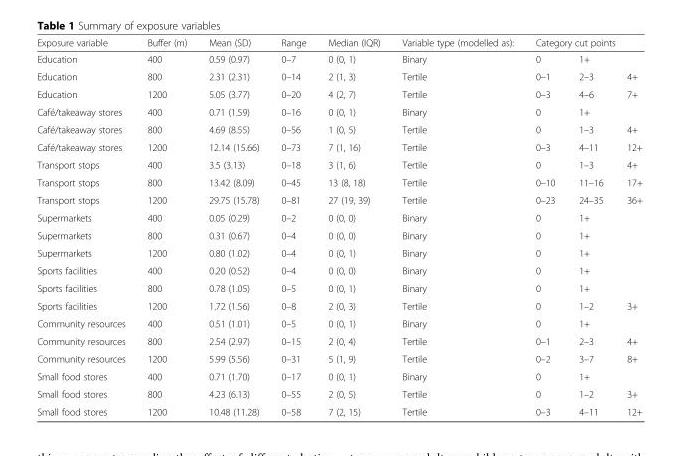table: (36, 36, 641, 417)
table column: (390, 36, 523, 417), (36, 36, 135, 417), (316, 36, 390, 417), (197, 36, 269, 417), (135, 36, 197, 417), (566, 36, 614, 417), (269, 36, 316, 417), (523, 36, 566, 417), (614, 36, 641, 417)
table column header: (36, 36, 641, 67)
table row: (36, 67, 641, 85), (36, 102, 641, 120), (36, 120, 641, 138), (36, 155, 641, 173), (36, 190, 641, 208), (36, 208, 641, 226), (36, 243, 641, 261), (36, 261, 641, 279), (36, 296, 641, 314), (36, 314, 641, 332), (36, 349, 641, 367), (36, 384, 641, 402), (36, 50, 641, 67), (36, 85, 641, 102), (36, 138, 641, 155), (36, 173, 641, 190), (36, 226, 641, 243), (36, 279, 641, 296), (36, 332, 641, 349), (36, 367, 641, 384), (36, 402, 641, 417), (36, 36, 641, 50)
table spanning cell: (390, 36, 523, 67), (36, 36, 135, 67), (316, 36, 390, 67), (197, 36, 269, 67), (135, 36, 197, 67), (523, 36, 641, 50), (269, 36, 316, 67)
